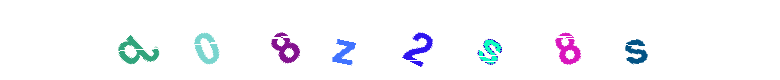0: (245, 0, 325, 80)
2: (350, 0, 430, 80)
8: (297, 0, 377, 80), (450, 0, 530, 80)
Q: (218, 0, 298, 80)
S: (387, 0, 467, 80), (520, 0, 600, 80)
Z: (327, 0, 407, 80)
